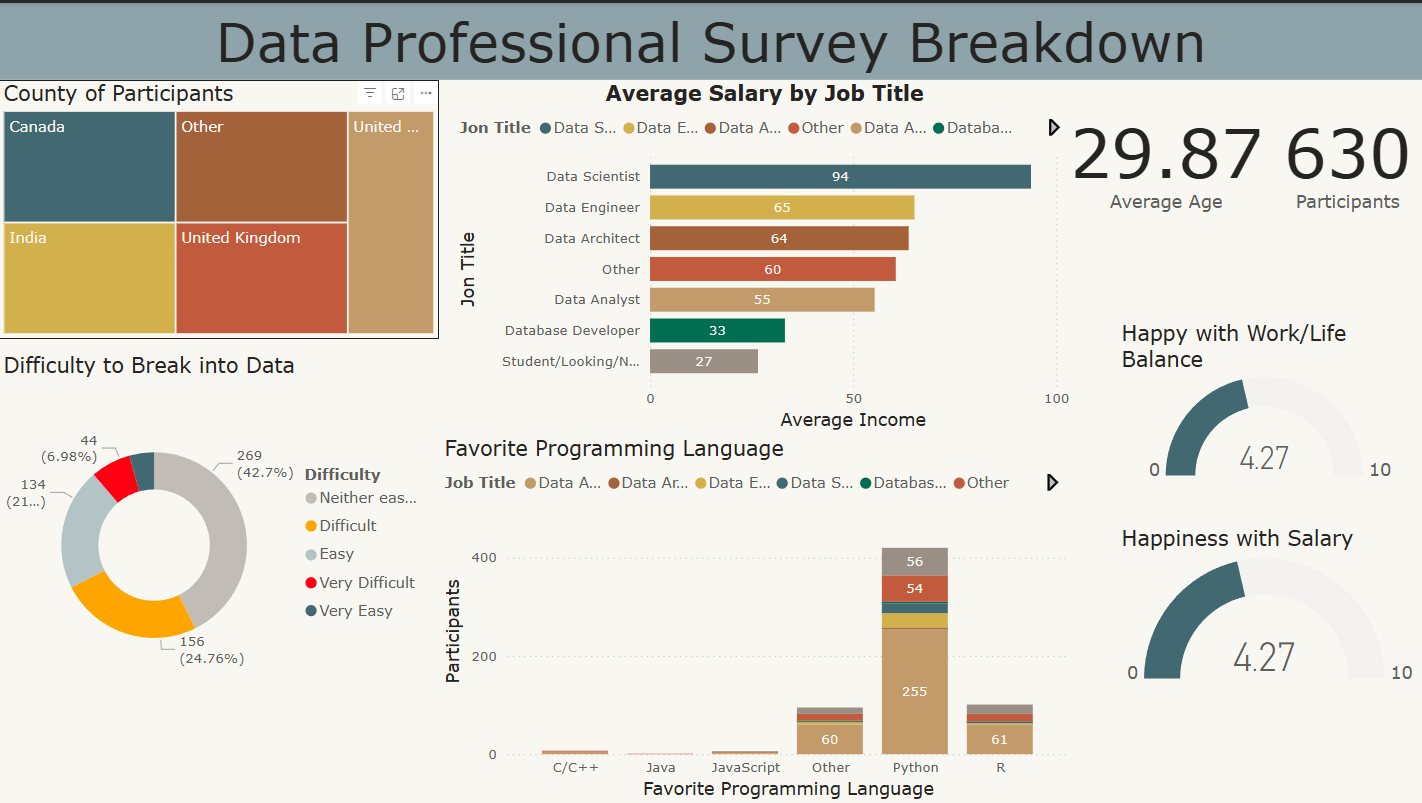

The dashboard page shown, as its layout file describes it:
{"tool":"powerbi","page":{"name":"Page 1","canvas":[1280,720],"ordinal":0},"visuals":[{"type":"textbox","box":[0,0,1280.4,68.9],"z":0},{"type":"card","fields":{"Values":["CountNonNull(Data Professional Survey.Unique ID)"]},"box":[1142.6,68.9,137.8,143.3],"z":1000},{"type":"card","fields":{"Values":["Avg(Data Professional Survey.Q10 - Current Age)"]},"box":[954,68.9,188.6,143.3],"z":2000},{"type":"barChart","title":"Average Salary by Job Title","fields":{"Category":["Data Professional Survey.Q1 - Which Title Best Fits your Current Role?.1"],"Y":["Avg(Data Professional Survey.Average_Income)"],"Series":["Data Professional Survey.Q1 - Which Title Best Fits your Current Role?.1"]},"box":[409,68.9,557.7,319.2],"z":3000},{"type":"columnChart","title":"Favorite Programming Language","fields":{"Category":["Data Professional Survey.Q5 - Favorite Programming Language.1"],"Y":["CountNonNull(Data Professional Survey.Unique ID)"],"Series":["Data Professional Survey.Q1 - Which Title Best Fits your Current Role?.1"]},"box":[396.3,388.1,570.4,331.9],"z":4000},{"type":"treemap","title":"County of Participants","fields":{"Group":["Data Professional Survey.Q11 - Which Country do you live in?.1"],"Values":["Count(Data Professional Survey.Q11 - Which Country do you live in?.1)"]},"box":[0,68.9,396.3,233],"z":5000},{"type":"gauge","title":"Happy with Work/Life Balance","fields":{"Y":["Avg(Data Professional Survey.Q6 - How Happy are you in your Current Position with the following? (Salary))"],"MinValue":["Min(Data Professional Survey.Q6 - How Happy are you in your Current Position with the following? (Salary))1"],"MaxValue":["Max(Data Professional Survey.Q6 - How Happy are you in your Current Position with the following? (Salary))2"]},"box":[1003.8,284.7,276.6,149.6],"z":6000},{"type":"gauge","title":"Happiness with Salary","fields":{"Y":["Avg(Data Professional Survey.Q6 - How Happy are you in your Current Position with the following? (Salary))"],"MinValue":["Min(Data Professional Survey.Q6 - How Happy are you in your Current Position with the following? (Salary))"],"MaxValue":["Max(Data Professional Survey.Q6 - How Happy are you in your Current Position with the following? (Salary))"]},"box":[1003.8,468.8,276.6,149.6],"z":7000},{"type":"donutChart","title":"Difficulty to Break into Data","fields":{"Y":["CountNonNull(Data Professional Survey.Q7 - How difficult was it for you to break into Data?)"],"Category":["Data Professional Survey.Q7 - How difficult was it for you to break into Data?"]},"box":[0,313.8,396.3,323.7],"z":7001}]}

Visuals, with their boxes in screenshot pixels (x1, y1, x2, y2), scaled from the page's 1280x720 canvas onto the 1422x803 screenshot:
textbox: 0/0/1421/77
card - CountNonNull(Data Professional Survey.Unique ID): 1269/77/1421/237
card - Avg(Data Professional Survey.Q10 - Current Age): 1060/77/1269/237
"Average Salary by Job Title" barChart: 454/77/1074/433
"Favorite Programming Language" columnChart: 440/433/1074/802
"County of Participants" treemap: 0/77/440/337
"Happy with Work/Life Balance" gauge: 1115/318/1421/484
"Happiness with Salary" gauge: 1115/523/1421/690
"Difficulty to Break into Data" donutChart: 0/350/440/711
